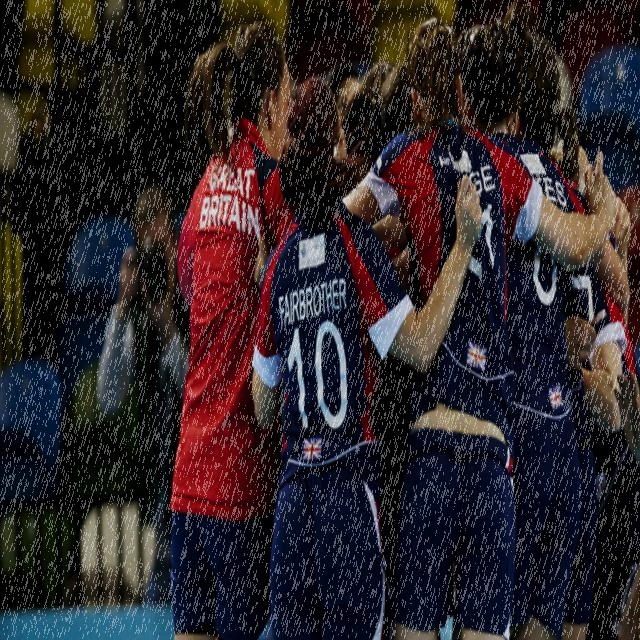pessoa: (341, 27, 618, 639), (252, 65, 484, 639), (458, 21, 631, 639), (163, 14, 301, 639), (507, 29, 631, 639), (94, 178, 195, 612), (326, 64, 409, 184)
